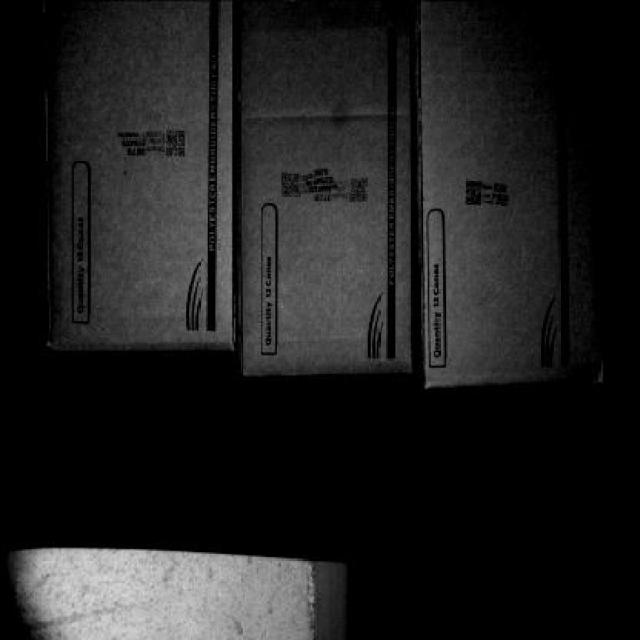cardboxes: (425, 1, 606, 382), (238, 0, 416, 380), (46, 0, 237, 351)
